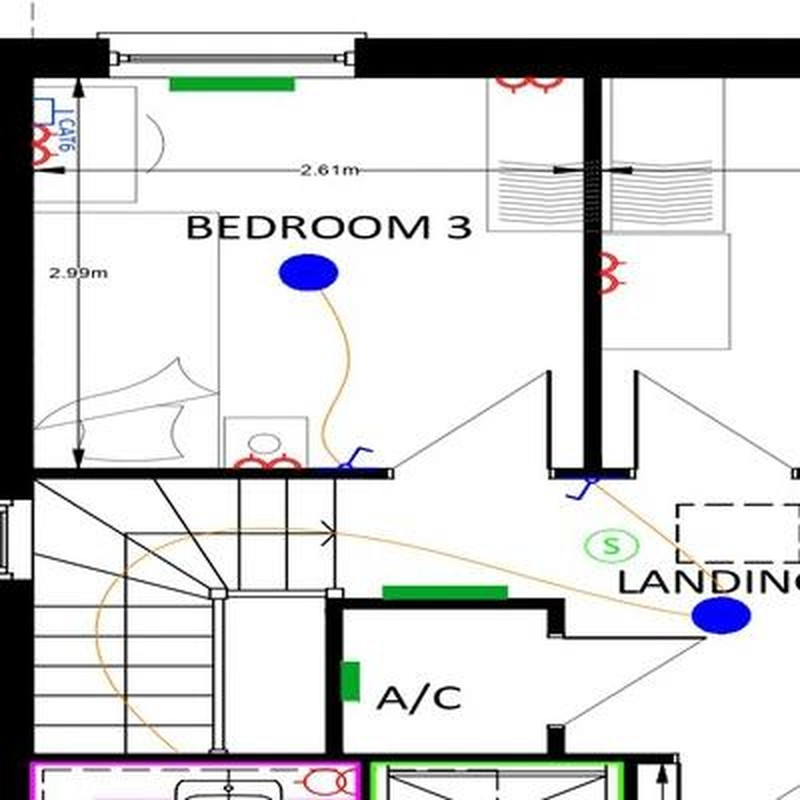Cat 6 Data Socket: (32, 98, 76, 154)
Double Socket: (495, 77, 563, 96), (33, 124, 60, 168), (236, 451, 301, 468), (602, 251, 627, 295)
Full Height Tiling: (371, 763, 624, 800)
Light Switch: (340, 446, 375, 468), (566, 479, 600, 500)
Low Energy Pendant Light: (277, 253, 338, 291), (691, 600, 751, 635)
Mains Wired Smoke Detector: (585, 528, 638, 562)
Radiator: (383, 585, 508, 600), (169, 78, 294, 91), (340, 662, 361, 703)
Shaver Socket: (291, 769, 355, 800)
